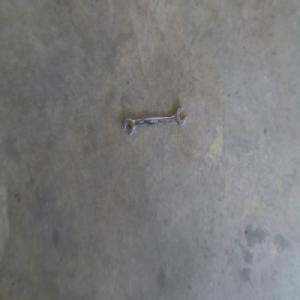Wrench: (118, 105, 191, 139)
